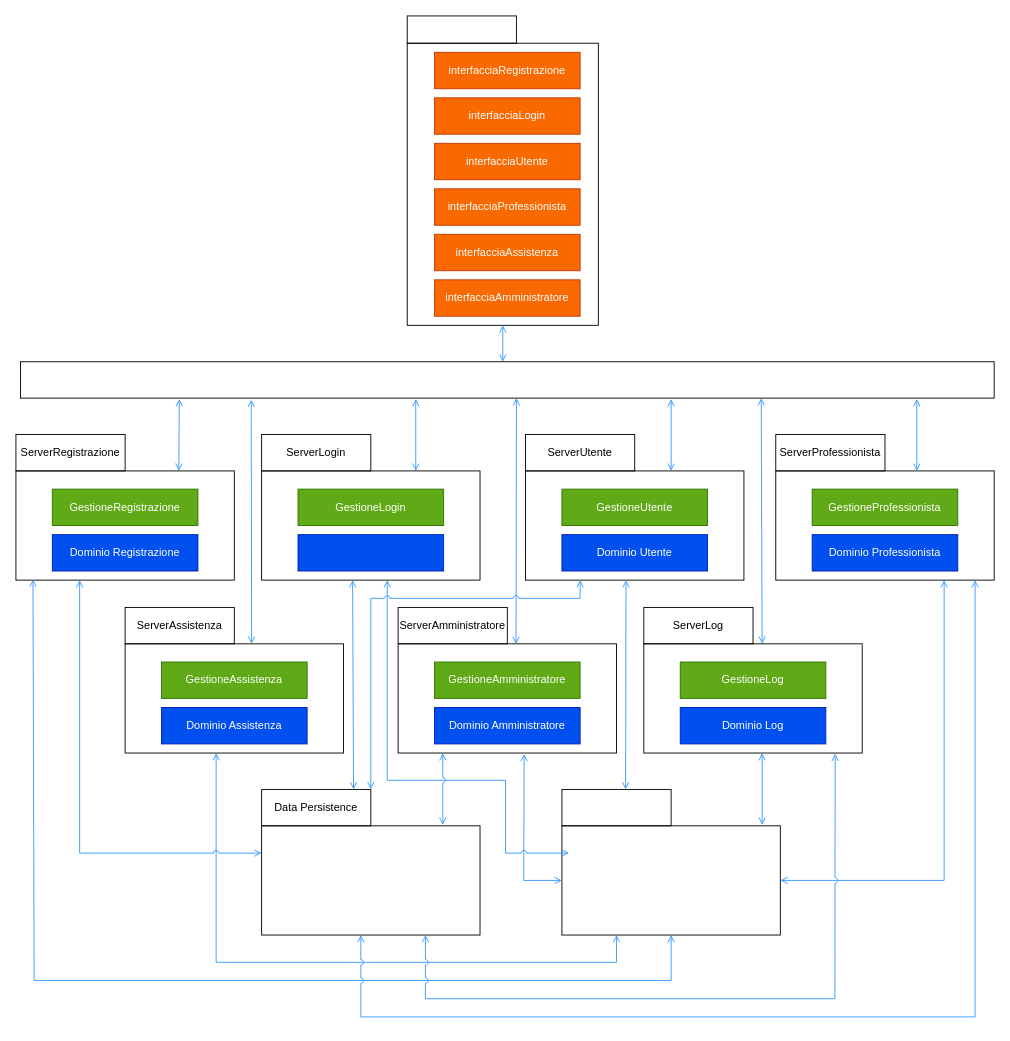
This 1010x1041 diagram has some shape labels left out. The shapes that lost their labels are listed below. From the top down, each one's centre as x and y in pixels, then its label:
At pixel 461 29: "Client/Attore".
At pixel 507 379: "Broker".
At pixel 370 552: "Dominio Login".
At pixel 616 807: "Log Perstistence".
